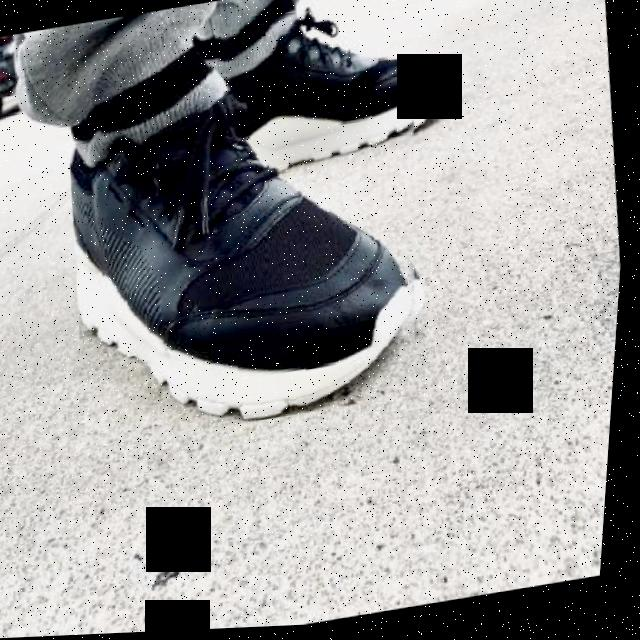shoe: (51, 60, 456, 451), (198, 0, 460, 180)
